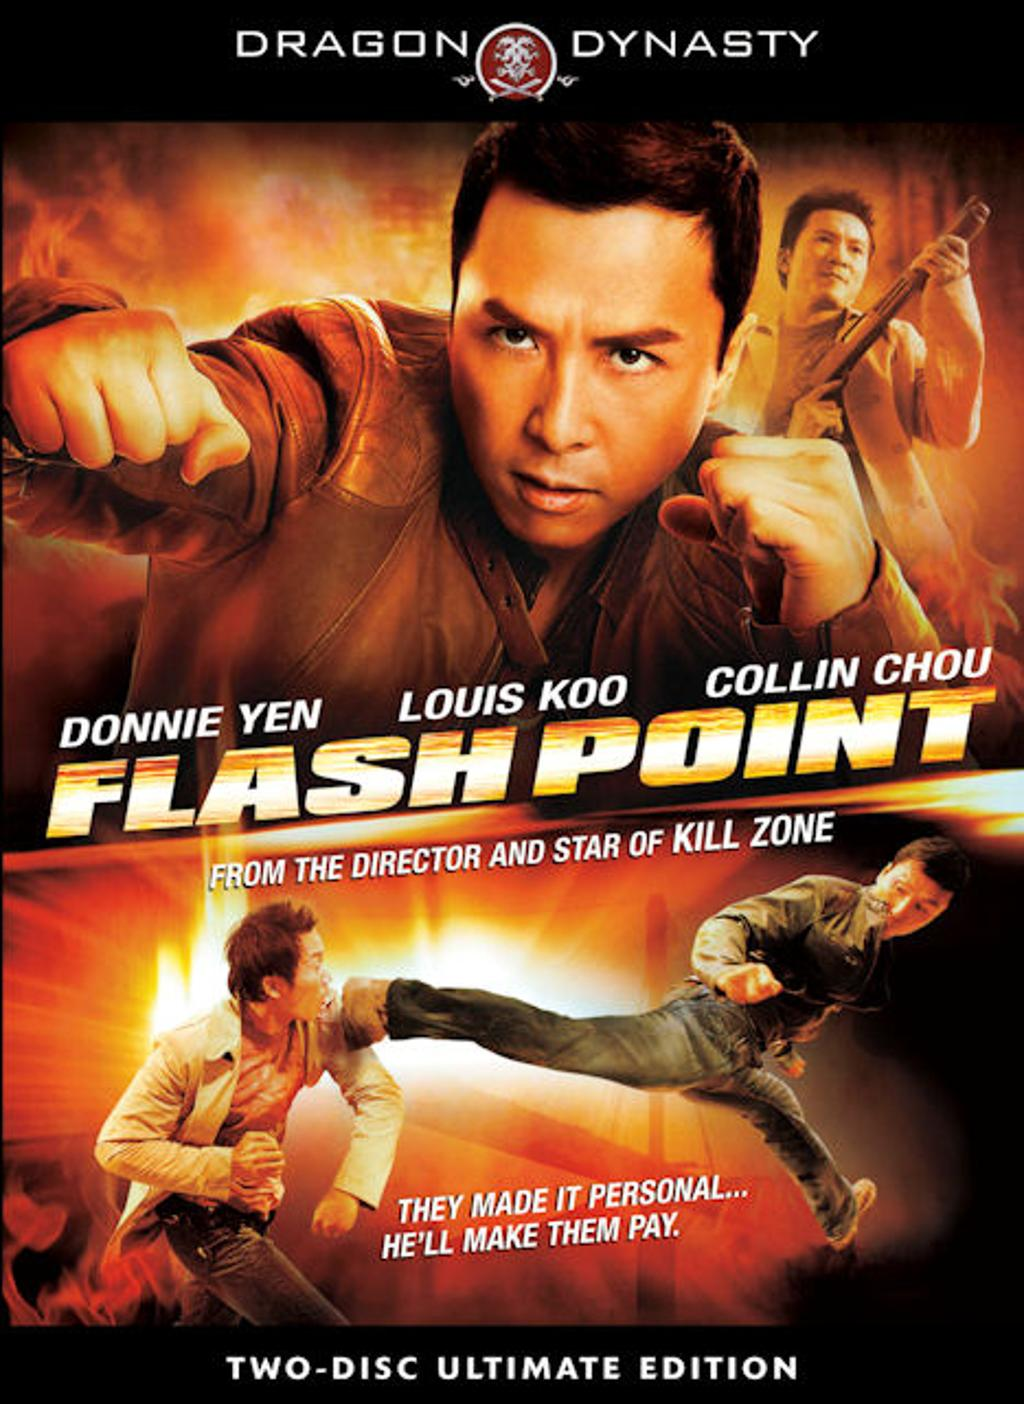face: (460, 192, 687, 529), (799, 208, 873, 307), (871, 873, 950, 950), (279, 936, 339, 1029)
